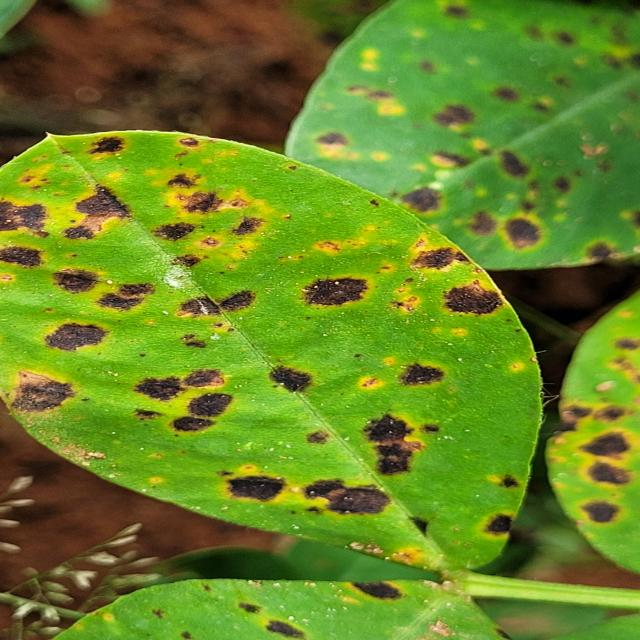Ground nut_tikka leaf spot: (0, 128, 542, 581)
